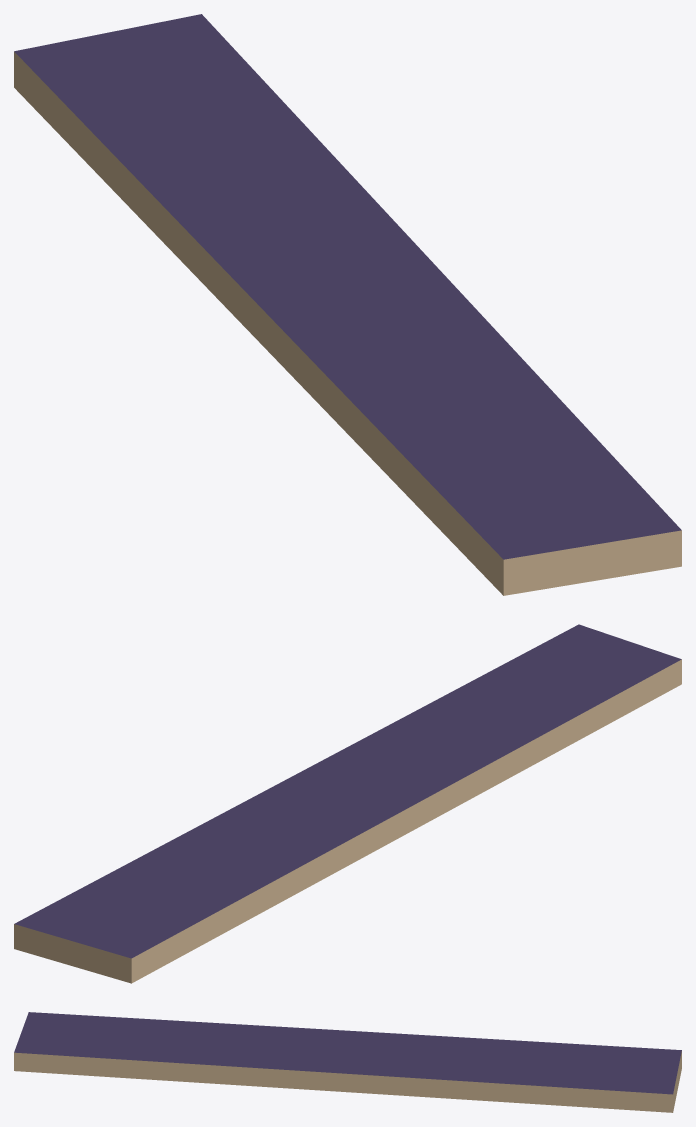
Rendered from b-107-day.glb.
3 views of the same model, one above another, from view 1: azimuth 30°, elevation 25°; view 2: azimuth 150°, elevation 25°; view 3: azimuth 270°, elevation 25° (orthographic). The views are drawn at different scales.
Parts seen in each view (by area): view 1: campus/b-107-day-0; view 2: campus/b-107-day-0; view 3: campus/b-107-day-0.
Part boxes in pixels (bbox=[...]): campus/b-107-day-0: bbox=[14, 14, 681, 595]; campus/b-107-day-0: bbox=[14, 624, 681, 983]; campus/b-107-day-0: bbox=[14, 1012, 681, 1112].
Size of the model in its own units: 28.83 by 3 by 98.71.
